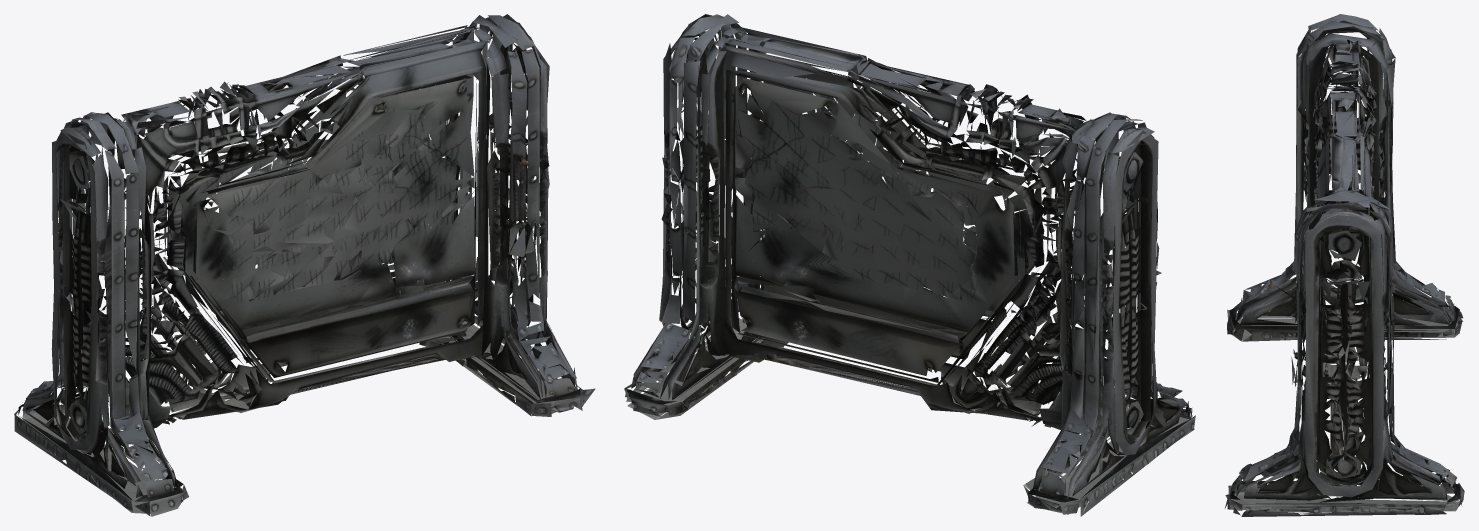
Rendered from life_tally_bulkhead.glb.
3 views of the same model, side by side, from view 1: azimuth 30°, elevation 25°; view 2: azimuth 150°, elevation 25°; view 3: azimuth 270°, elevation 25° (orthographic). The views are drawn at different scales.
Visible parts, largest first — view 1: node_0; view 2: node_0; view 3: node_0.
Part boxes in pixels (x1=…): node_0: x1=14, y1=14, x2=595, y2=516; node_0: x1=624, y1=14, x2=1195, y2=516; node_0: x1=1224, y1=14, x2=1464, y2=516.
Bounding box in the file's own units: 0.9471 × 0.6706 × 0.4688.
Materials: 1 (1 with a texture image).
